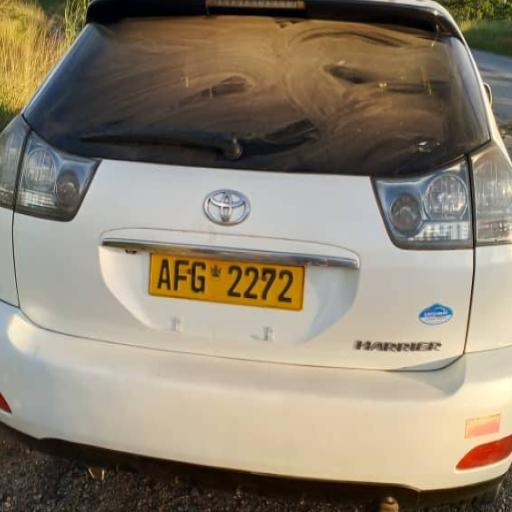number-plates: (153, 246, 299, 309)
